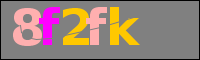2: (62, 7, 90, 48)
8: (13, 6, 42, 46)
f: (37, 6, 60, 47), (88, 5, 108, 46)
k: (109, 6, 142, 46)
